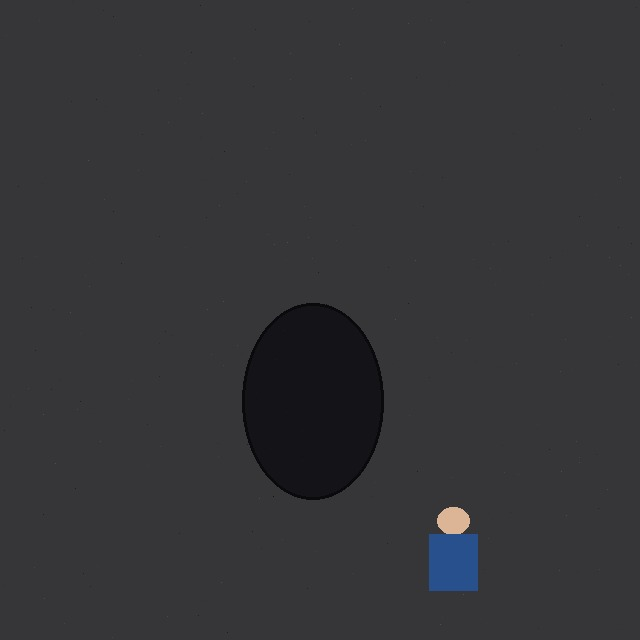person: (405, 507, 502, 590)
pothole: (242, 303, 383, 499)
